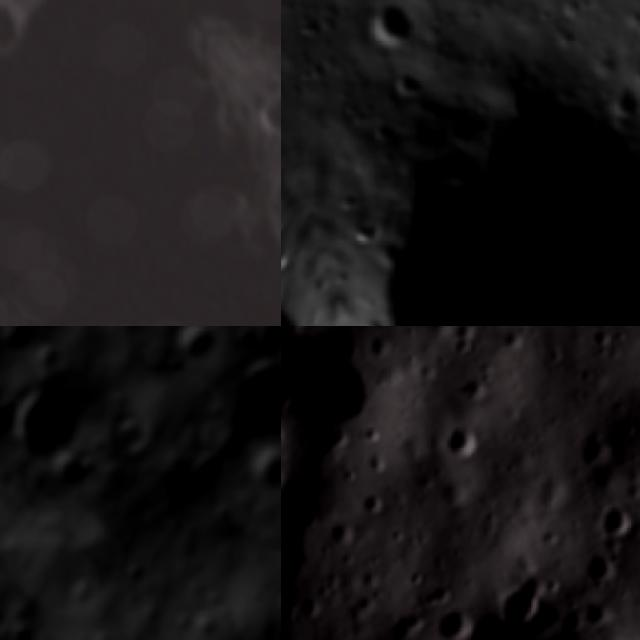crater: (297, 39, 640, 326), (281, 326, 413, 456), (0, 374, 92, 479), (217, 351, 281, 449), (486, 566, 556, 635), (356, 0, 430, 60), (102, 408, 159, 470), (426, 416, 491, 468), (45, 449, 94, 506), (164, 326, 224, 371), (0, 0, 38, 68), (0, 527, 39, 589), (593, 496, 640, 547), (574, 429, 618, 478), (576, 546, 624, 590), (339, 208, 385, 253), (389, 61, 434, 106), (183, 448, 226, 494), (251, 439, 281, 504), (603, 77, 640, 128), (249, 96, 281, 151), (572, 597, 616, 636), (365, 231, 407, 271), (432, 603, 476, 640), (289, 590, 323, 630), (356, 491, 392, 522), (0, 614, 42, 640), (616, 0, 640, 39), (327, 522, 356, 554), (338, 183, 367, 214), (368, 119, 398, 148), (535, 4, 557, 29), (283, 0, 308, 6)
